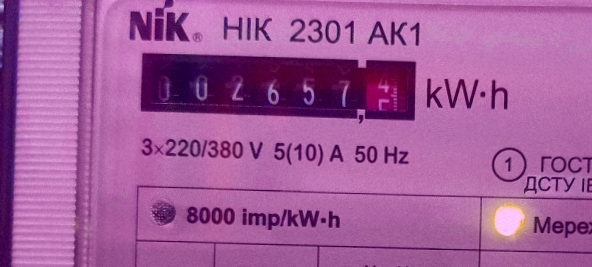0: (193, 71, 209, 101), (155, 73, 172, 101)
2: (229, 72, 246, 101)
4: (376, 67, 391, 92)
5: (301, 75, 317, 106), (376, 96, 391, 111)
6: (266, 75, 280, 105)
7: (337, 76, 352, 108)
screen: (131, 41, 427, 131)
